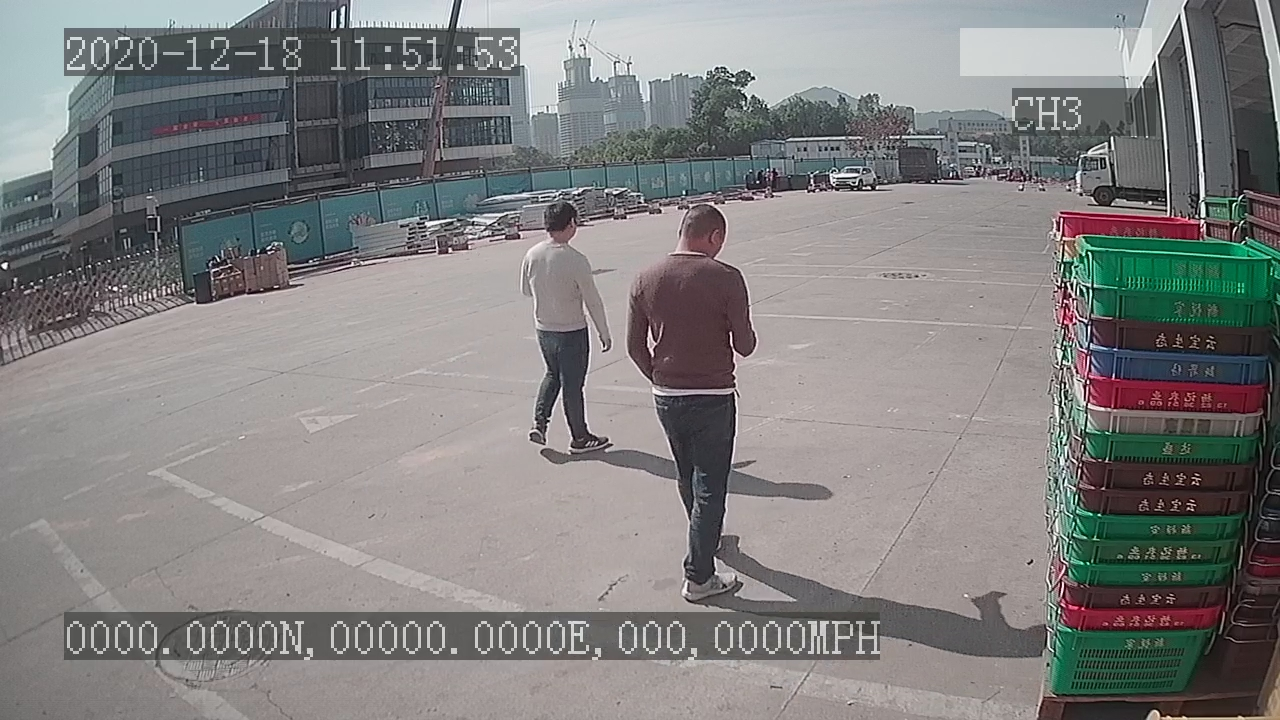person: (620, 195, 765, 606), (506, 195, 617, 463)
